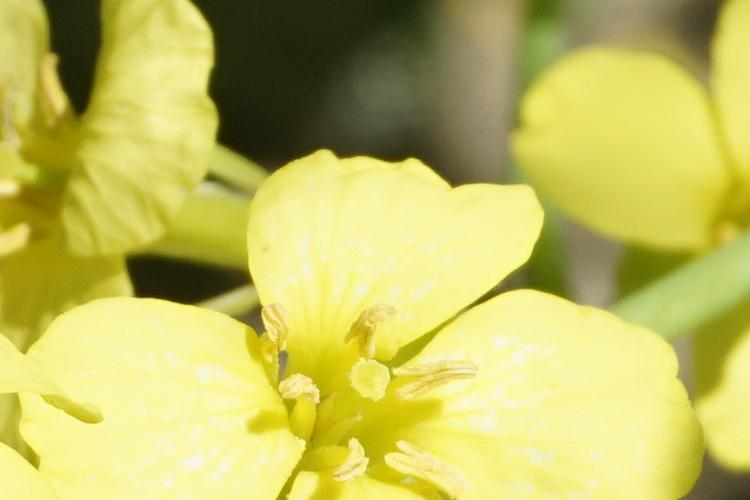yellow: (17, 162, 705, 491), (10, 9, 216, 250), (541, 32, 750, 244)
